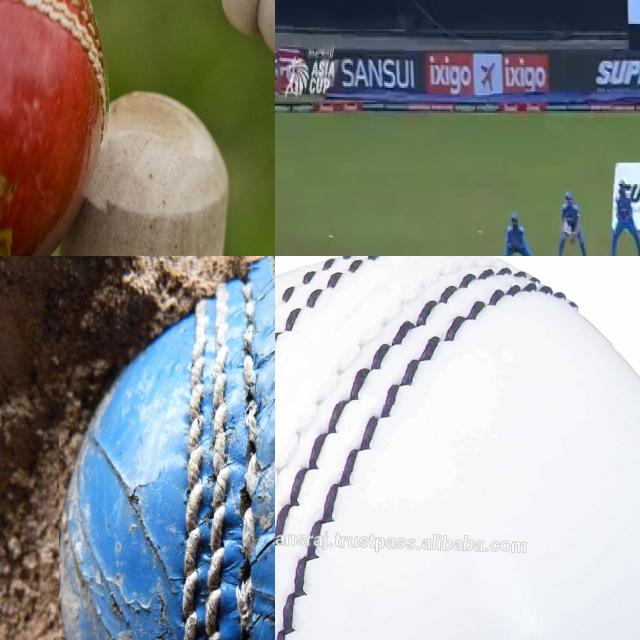Cricket ball: (275, 256, 640, 640), (58, 261, 275, 640), (0, 0, 112, 256)
